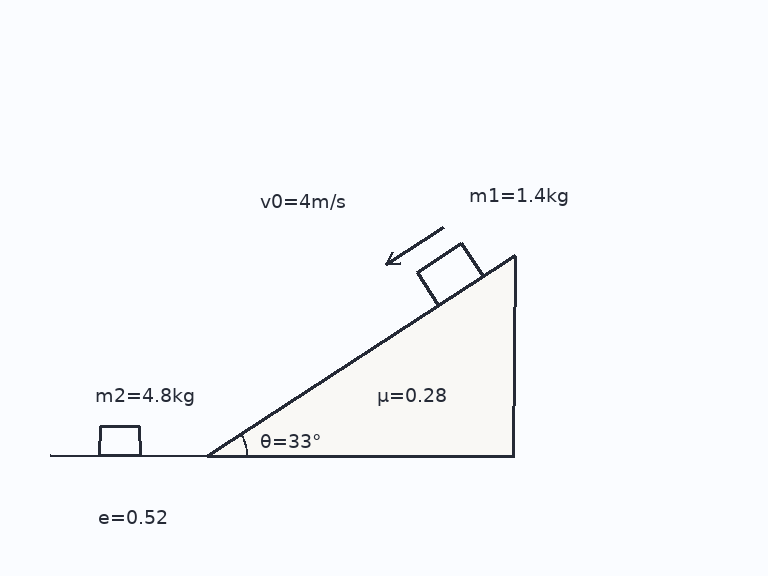block: (415, 241, 485, 307), (98, 424, 142, 457)
ramp: (205, 253, 517, 457)
